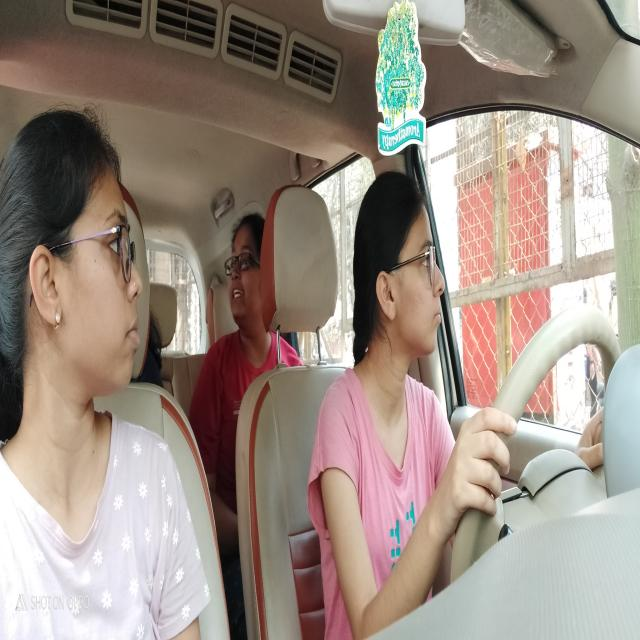LeftRight: (353, 168, 448, 406)
person: (2, 107, 144, 444), (224, 213, 274, 338)
